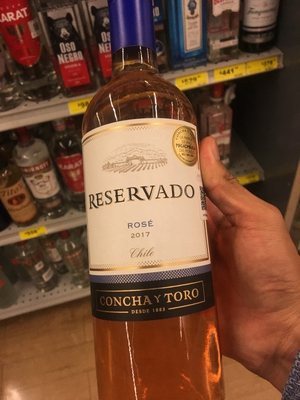reservado rose: (73, 12, 214, 398)
